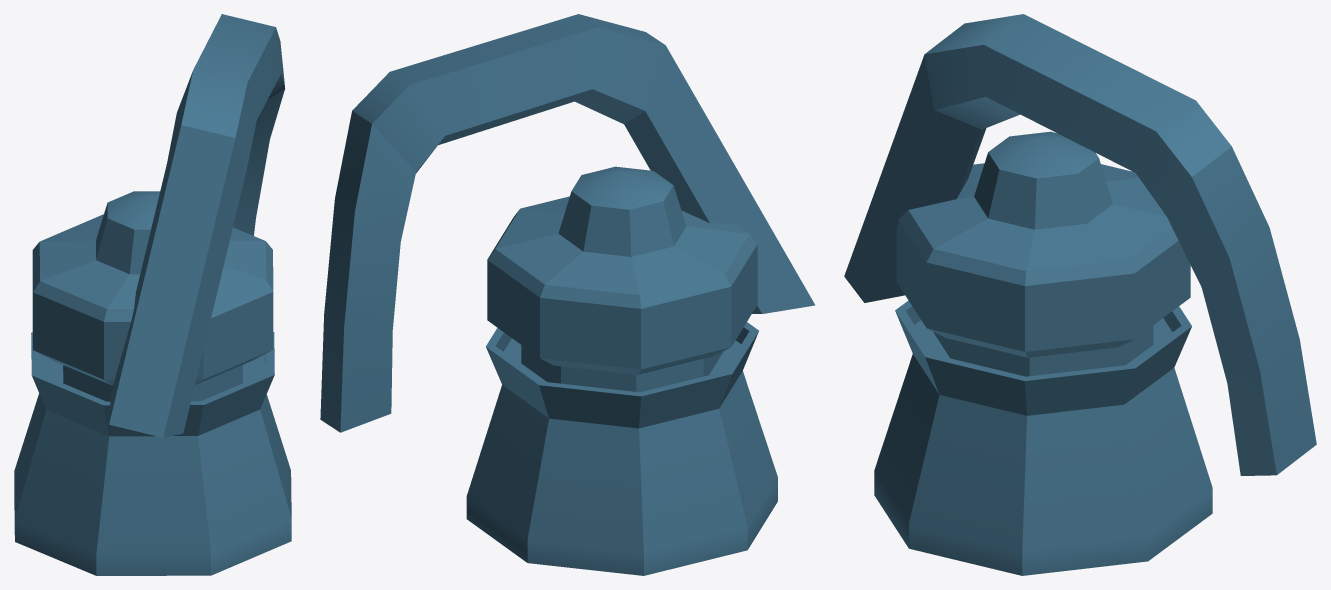
File: arch building.fbx
The picture shows the model from 3 angles, left to right: view 1: azimuth 30°, elevation 25°; view 2: azimuth 150°, elevation 25°; view 3: azimuth 270°, elevation 25°; orthographic projection. The views are drawn at different scales.
Visible parts, largest first — view 1: pCylinder17, arch; view 2: pCylinder17, arch; view 3: pCylinder17, arch.
Part boxes in pixels (box(x1,y1,x2,y2)): pCylinder17: box(14, 191, 291, 575); arch: box(109, 14, 285, 437); pCylinder17: box(466, 166, 777, 575); arch: box(320, 14, 814, 432); pCylinder17: box(874, 131, 1212, 575); arch: box(844, 14, 1316, 475).
Size of the model in its own units: 444 by 590 by 497.
